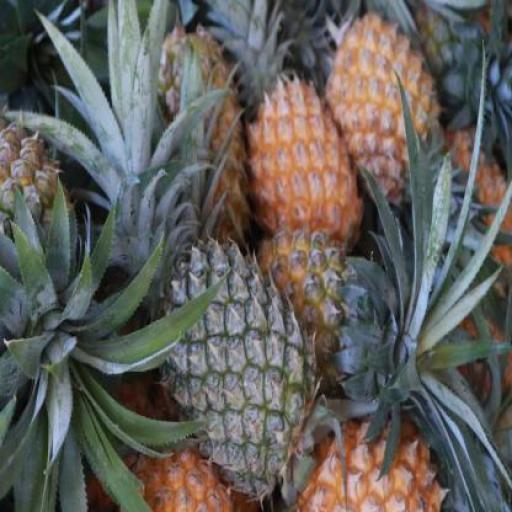------------------------------: (0, 104, 75, 328)
Pineapple - v8 v1: (327, 14, 440, 220), (245, 70, 359, 251)
